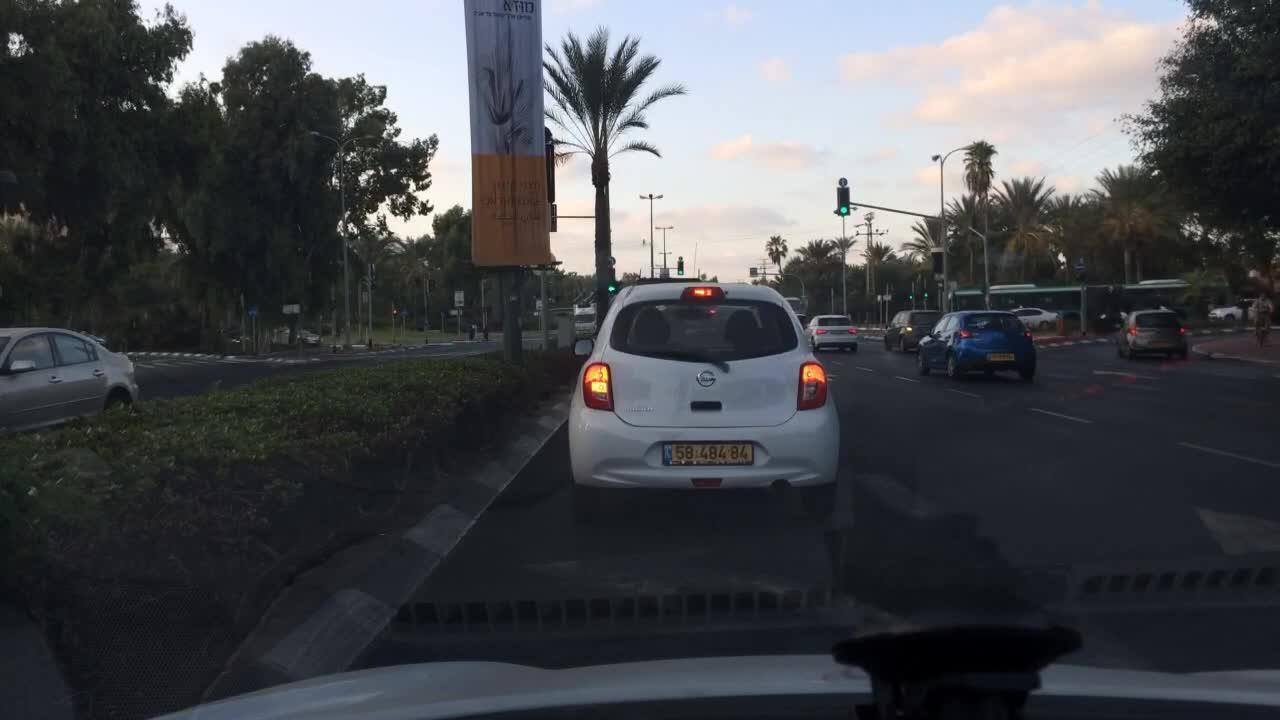Nissan: (689, 361, 727, 402)
